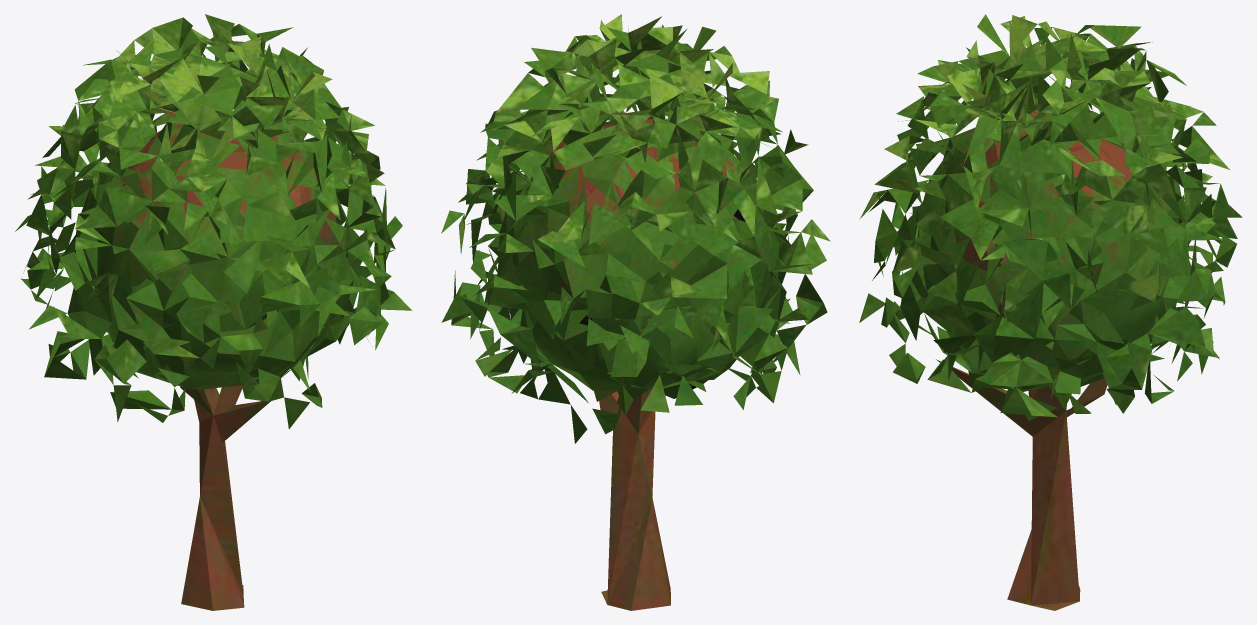
The model's file is tree.glb.
3 views of the same model, side by side, from view 1: azimuth 30°, elevation 25°; view 2: azimuth 150°, elevation 25°; view 3: azimuth 270°, elevation 25° (orthographic).
Parts seen in each view (by area): view 1: output_unwrapped; view 2: output_unwrapped; view 3: output_unwrapped.
Part boxes in pixels (<box>): output_unwrapped: <box>15,14,411,610</box>; output_unwrapped: <box>441,14,830,610</box>; output_unwrapped: <box>859,14,1242,610</box>.
Bounding box in the file's own units: 1.12 × 1.9 × 1.16.
1 material, 1 textured.
